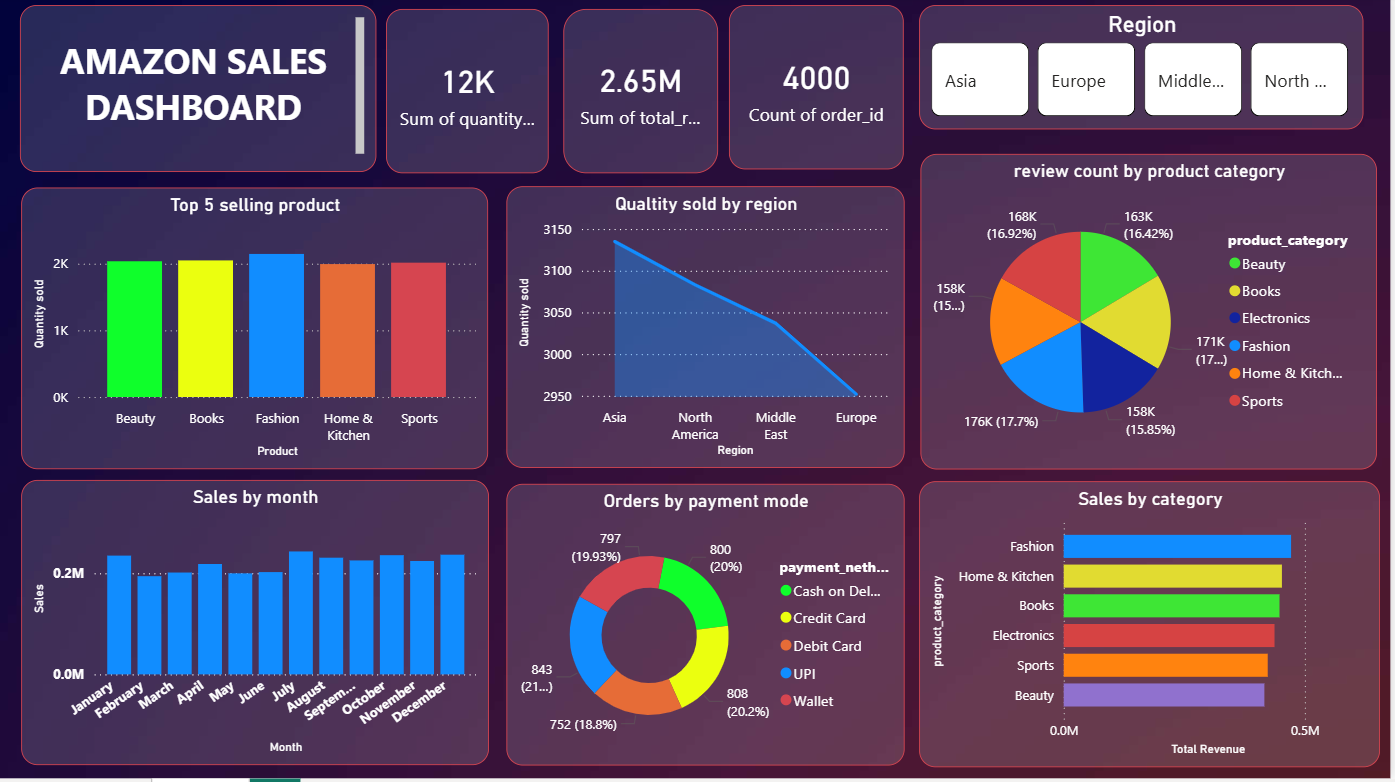

The page's visual inventory and layout, read from the dashboard file:
{"tool":"powerbi","page":{"name":"Page 1","canvas":[1280,720],"ordinal":0},"visuals":[{"type":"columnChart","title":"Sales by month","fields":{"Y":["Sum(amazon sales dataset.total_revenue)"],"Category":["amazon sales dataset.order_date.Variation.Date Hierarchy.Month"]},"box":[20,445,430,262.5],"z":0},{"type":"donutChart","title":"Orders by payment mode","fields":{"Category":["amazon sales dataset.payment_nethod"],"Y":["CountNonNull(amazon sales dataset.order_id)"]},"box":[466.1,449,366.3,259.4],"z":1000},{"type":"barChart","title":"Sales by category","fields":{"Category":["amazon sales dataset.product_category"],"Y":["Sum(amazon sales dataset.total_revenue)"]},"box":[846.7,446,424,263.5],"z":2000},{"type":"lineStackedColumnComboChart","title":"Top 5 selling product","fields":{"Category":["amazon sales dataset.product_category"],"Y":["Sum(amazon sales dataset.quantity_sold)"]},"box":[20.6,175.6,429.5,259.3],"z":3000},{"type":"areaChart","title":"Qualtity sold by region","fields":{"Category":["amazon sales dataset.customer_region"],"Y":["Sum(amazon sales dataset.quantity_sold)"]},"box":[466.1,175.3,366.3,259.4],"z":4000},{"type":"pieChart","title":"review count by product category","fields":{"Category":["amazon sales dataset.product_category"],"Y":["Sum(amazon sales dataset.review_count)"]},"box":[847.5,145,420,290],"z":5000},{"type":"textbox","box":[18.5,8.6,327.8,153.9],"z":6000},{"type":"card","fields":{"Values":["Sum(amazon sales dataset.total_revenue)"]},"box":[518.8,11.4,142.5,151.1],"z":7000},{"type":"card","fields":{"Values":["Sum(amazon sales dataset.quantity_sold)"]},"box":[356.3,11.4,149.7,151.1],"z":8000},{"type":"card","fields":{"Values":["CountNonNull(amazon sales dataset.order_id)"]},"box":[671,8.2,160.5,150.9],"z":9000},{"type":"advancedSlicerVisual","title":"Region","fields":{"Values":["amazon sales dataset.customer_region"]},"box":[846.7,8.6,409.1,114],"z":10000}]}

Visuals, with their boxes in screenshot pixels (x1, y1, x2, y2), scaled from the page's 1280x720 canvas onto the 1395x782 screenshot:
"Sales by month" columnChart: [22,483,490,768]
"Orders by payment mode" donutChart: [508,488,907,769]
"Sales by category" barChart: [923,484,1385,771]
"Top 5 selling product" lineStackedColumnComboChart: [22,191,491,472]
"Qualtity sold by region" areaChart: [508,190,907,472]
"review count by product category" pieChart: [924,157,1381,472]
textbox: [20,9,377,176]
card - Sum(amazon sales dataset.total_revenue): [565,12,721,176]
card - Sum(amazon sales dataset.quantity_sold): [388,12,551,176]
card - CountNonNull(amazon sales dataset.order_id): [731,9,906,173]
"Region" advancedSlicerVisual: [923,9,1369,133]
